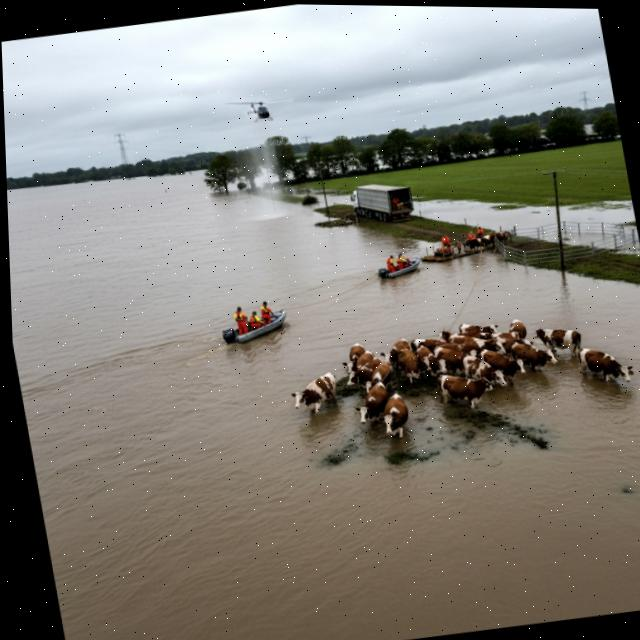cow: (575, 339, 639, 393), (433, 363, 498, 415), (286, 369, 345, 416), (529, 318, 587, 363), (477, 343, 531, 391), (373, 387, 415, 442), (461, 349, 512, 394), (509, 335, 561, 378), (350, 381, 392, 430), (342, 357, 391, 391), (460, 328, 510, 361), (376, 335, 415, 374), (433, 342, 475, 377), (393, 343, 425, 388), (360, 358, 396, 396), (472, 323, 526, 347), (441, 337, 482, 363), (457, 316, 501, 340), (338, 339, 367, 375), (437, 322, 478, 347), (417, 343, 440, 382), (351, 344, 380, 372), (479, 227, 515, 249), (431, 354, 459, 379), (411, 334, 446, 354), (506, 315, 530, 341), (463, 234, 493, 253)
rescuer: (229, 304, 253, 337), (258, 299, 276, 327), (247, 308, 265, 332), (395, 251, 408, 271), (385, 254, 397, 273), (440, 233, 452, 250), (475, 224, 485, 236), (466, 230, 475, 239)
